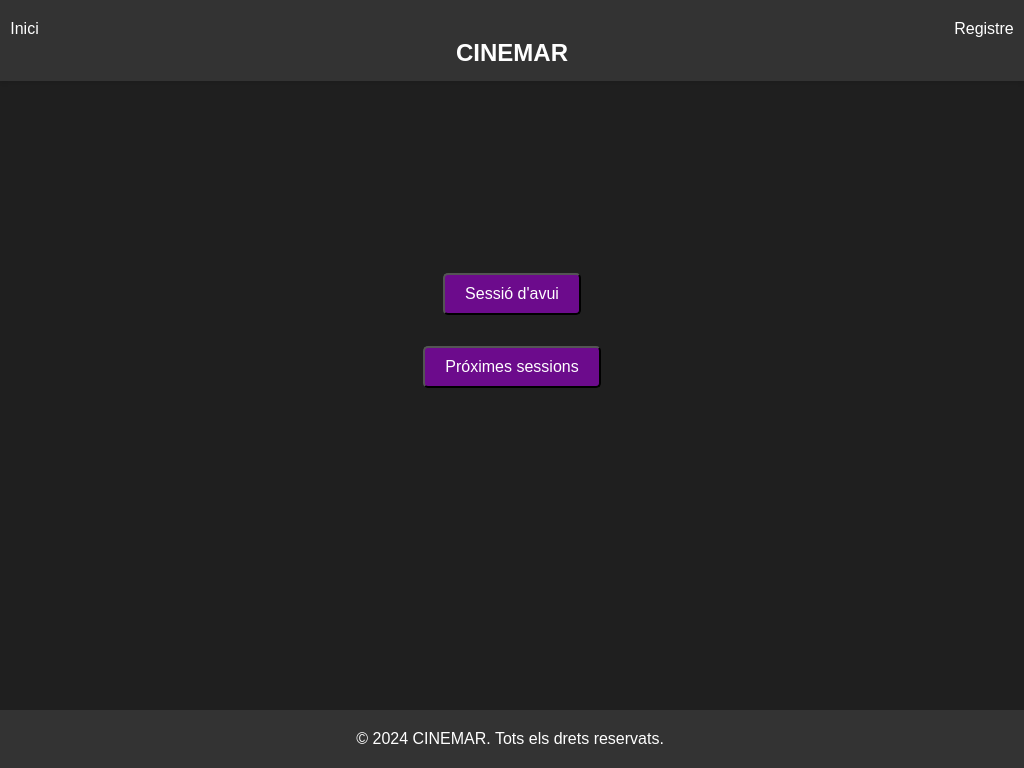
Test: Test d'inici de sessió › Inicia sessió al transversal 3 i llegeix que el username és el correcte
Click the element with class "menu__dreta_registre".
click(984, 29)  # box [954,20,1014,38]
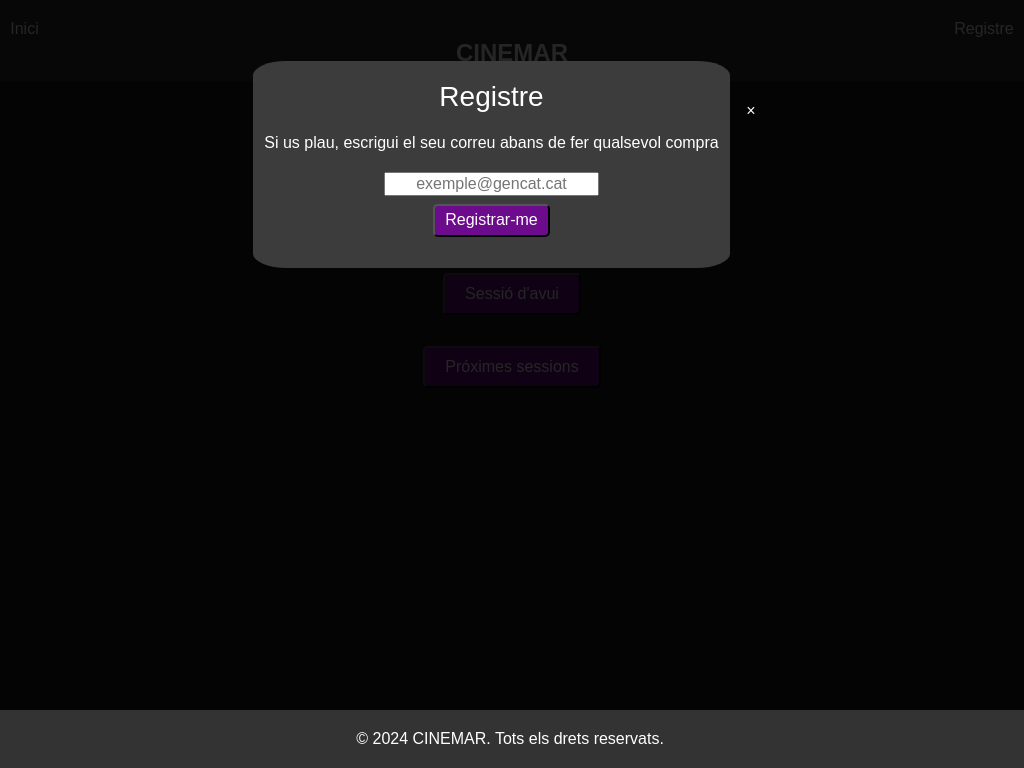
Type "fake@email.com" into the field with class "modal__campCorreu".
click(492, 184); type("fake@email.com")  # box [384,172,599,196]
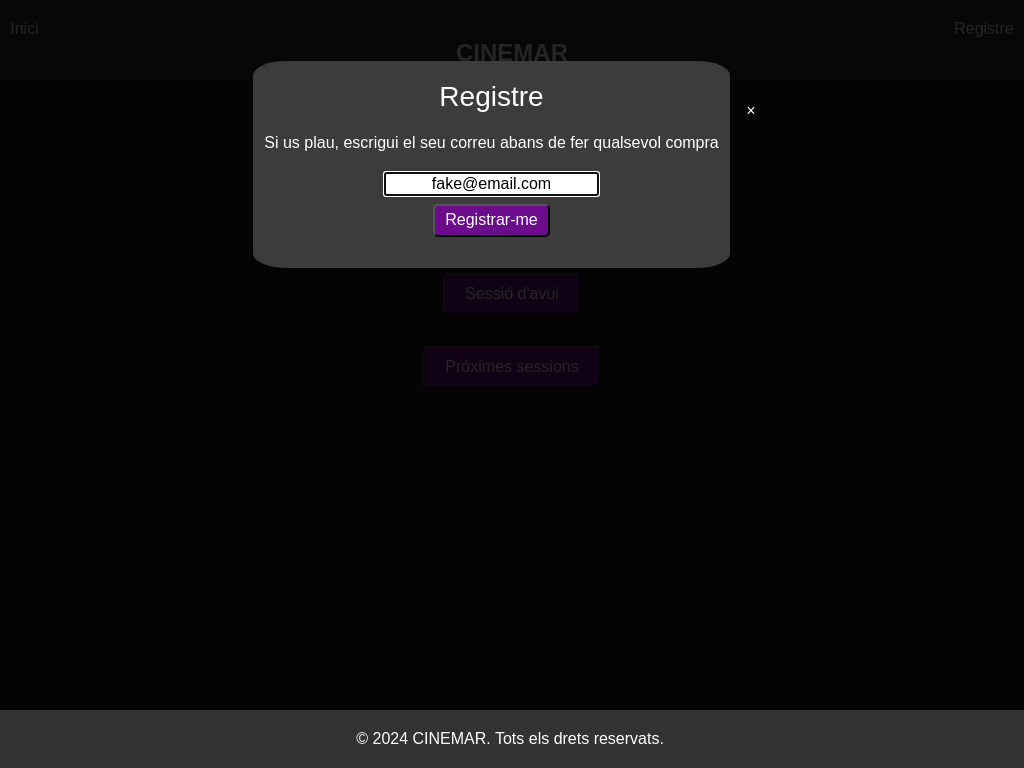
Click the button with class "modal__enregistrament".
click(492, 220)  # box [433,204,550,236]
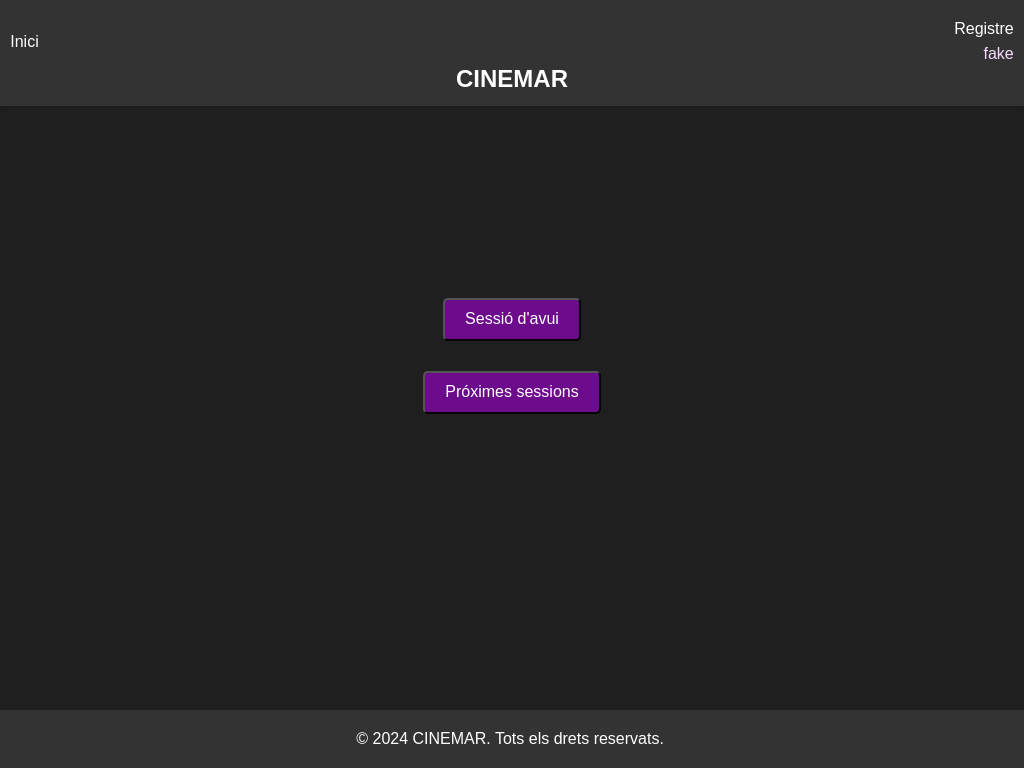
expect the text "fake" is shown: met, box [984,45,1014,64]
